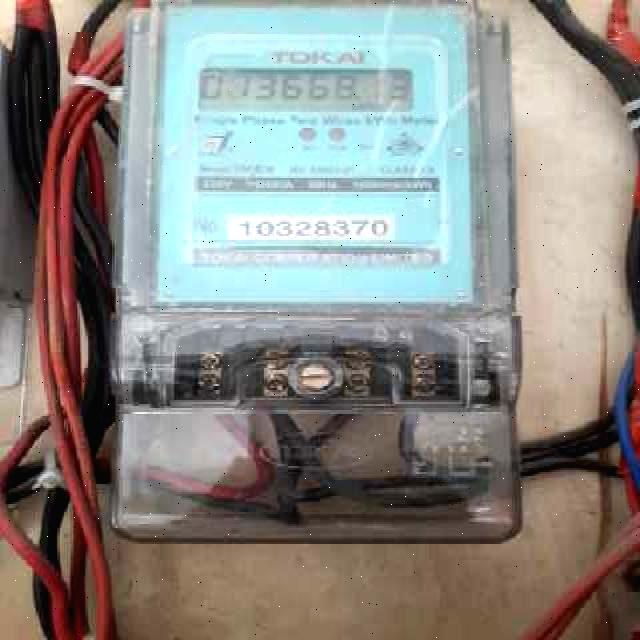LCD: (185, 53, 427, 120)
